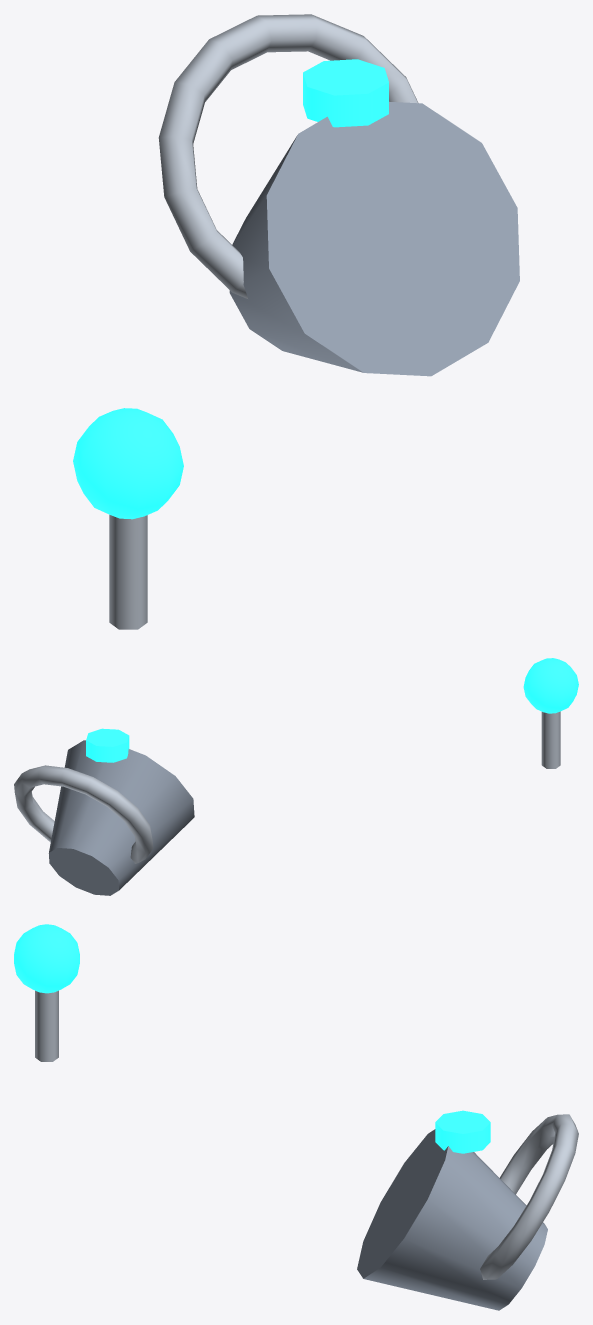
Rendered from tower_skywatch_range_s3.glb.
The picture shows the model from 3 angles, top to bottom: view 1: azimuth 30°, elevation 25°; view 2: azimuth 150°, elevation 25°; view 3: azimuth 270°, elevation 25°; orthographic projection. The views are drawn at different scales.
Visible parts, largest first — view 1: skywatch_feed_horn, skywatch_feed_horn_ring, skywatch_iff_lamp, skywatch_up_range_l3_stud, skywatch_iff_lamp_stalk; view 2: skywatch_feed_horn, skywatch_feed_horn_ring, skywatch_iff_lamp, skywatch_up_range_l3_stud, skywatch_iff_lamp_stalk; view 3: skywatch_feed_horn, skywatch_feed_horn_ring, skywatch_iff_lamp, skywatch_up_range_l3_stud, skywatch_iff_lamp_stalk.
Part boxes in pixels (left/top/right/bottom): skywatch_feed_horn: left=229, top=101, right=519, bottom=376; skywatch_feed_horn_ring: left=158, top=14, right=418, bottom=298; skywatch_iff_lamp: left=73, top=408, right=183, bottom=519; skywatch_up_range_l3_stud: left=303, top=59, right=388, bottom=127; skywatch_iff_lamp_stalk: left=109, top=515, right=147, bottom=629; skywatch_feed_horn: left=48, top=740, right=194, bottom=895; skywatch_feed_horn_ring: left=14, top=765, right=153, bottom=863; skywatch_iff_lamp: left=523, top=658, right=578, bottom=713; skywatch_up_range_l3_stud: left=86, top=728, right=129, bottom=762; skywatch_iff_lamp_stalk: left=541, top=711, right=560, bottom=768; skywatch_feed_horn: left=357, top=1129, right=547, bottom=1310; skywatch_feed_horn_ring: left=480, top=1114, right=578, bottom=1279; skywatch_iff_lamp: left=14, top=924, right=79, bottom=993; skywatch_up_range_l3_stud: left=435, top=1110, right=490, bottom=1153; skywatch_iff_lamp_stalk: left=35, top=990, right=58, bottom=1061.
Bounding box in the file's own units: 0.532 × 0.2345 × 0.5703.
